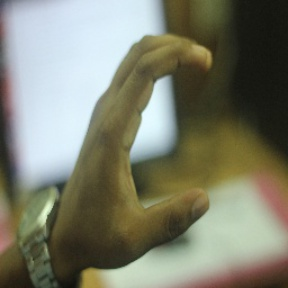C: (78, 32, 220, 246)
